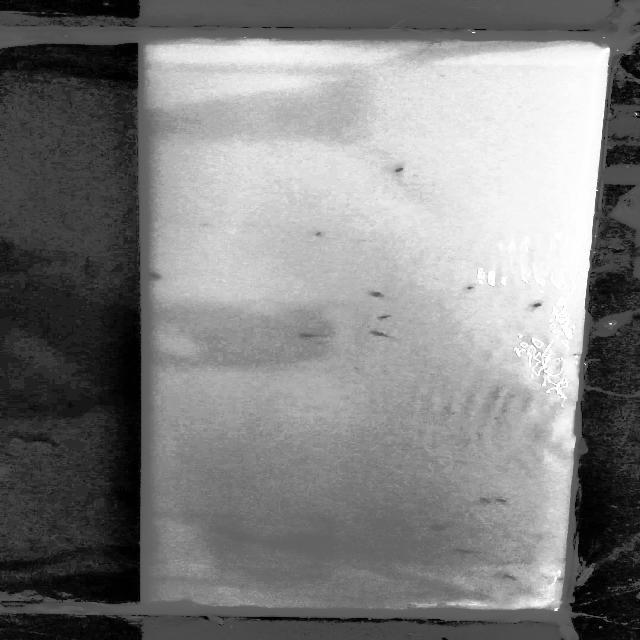shrimp: (381, 157, 419, 188), (282, 324, 324, 346), (521, 295, 556, 318), (444, 544, 481, 560), (367, 308, 398, 322), (489, 492, 516, 507), (145, 268, 170, 284), (361, 290, 393, 301), (365, 328, 393, 339)
